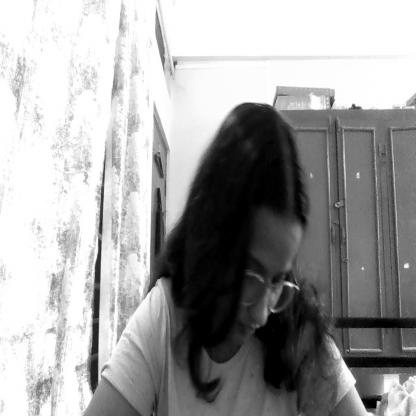Distracted: (228, 213, 304, 352)
